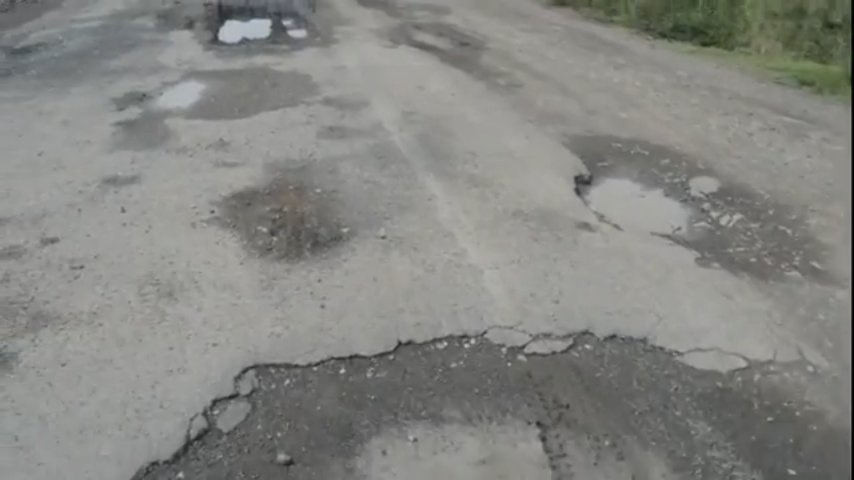pothole: (697, 159, 854, 321), (563, 67, 751, 194), (696, 346, 854, 474), (215, 164, 362, 278), (498, 339, 627, 461)
